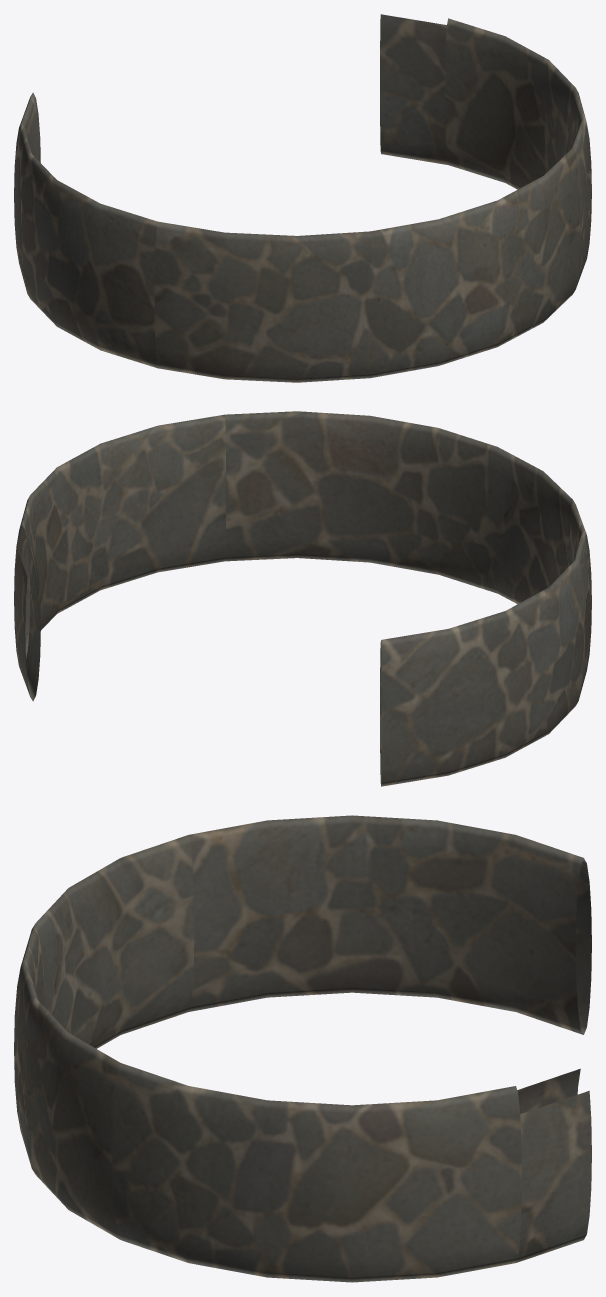
Rendered from ArenaDelete.fbx.
3 renders of one model, top to bottom at view 1: azimuth 30°, elevation 25°; view 2: azimuth 150°, elevation 25°; view 3: azimuth 270°, elevation 25°, orthographic. The views are drawn at different scales.
Visible parts, largest first — view 1: ArenaProBuilder; view 2: ArenaProBuilder; view 3: ArenaProBuilder.
Part boxes in pixels (x1,y1,x2,y2): ArenaProBuilder: (14, 14, 591, 382); ArenaProBuilder: (14, 411, 591, 786); ArenaProBuilder: (14, 815, 591, 1282).
Bounding box in the file's own units: 7502 × 2081 × 6152.
